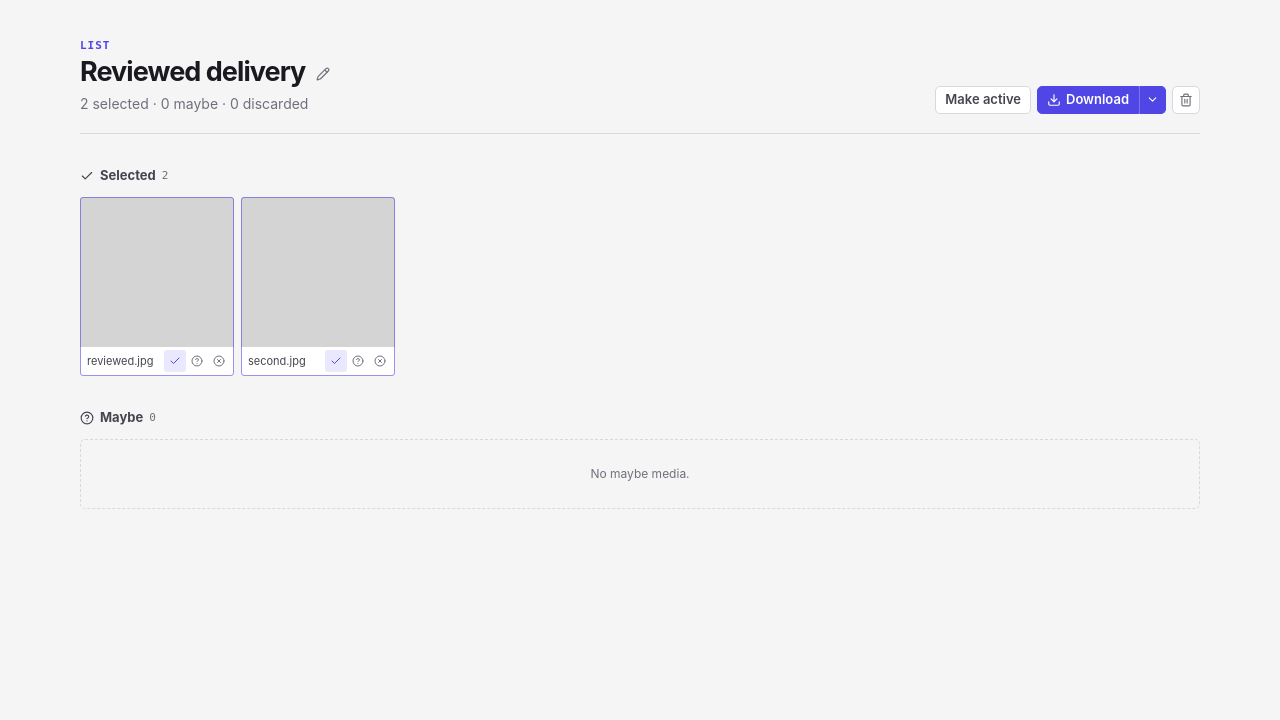
Test case: ListPage viewer › rolls back only the item whose concurrent status update failed
Click the button named "Mark maybe" next to "reviewed.jpg": (197, 362) [186, 350, 208, 372]
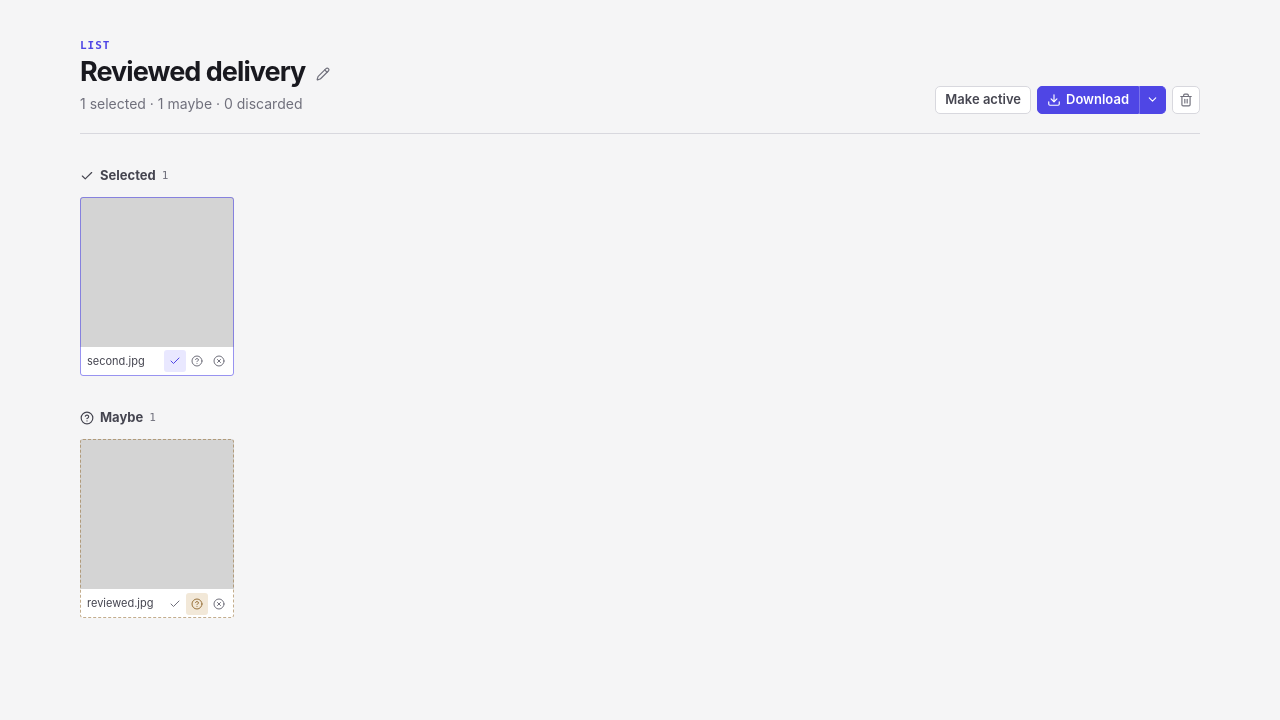
Click the button named "Mark discarded" next to "second.jpg": (219, 362) [208, 350, 230, 372]
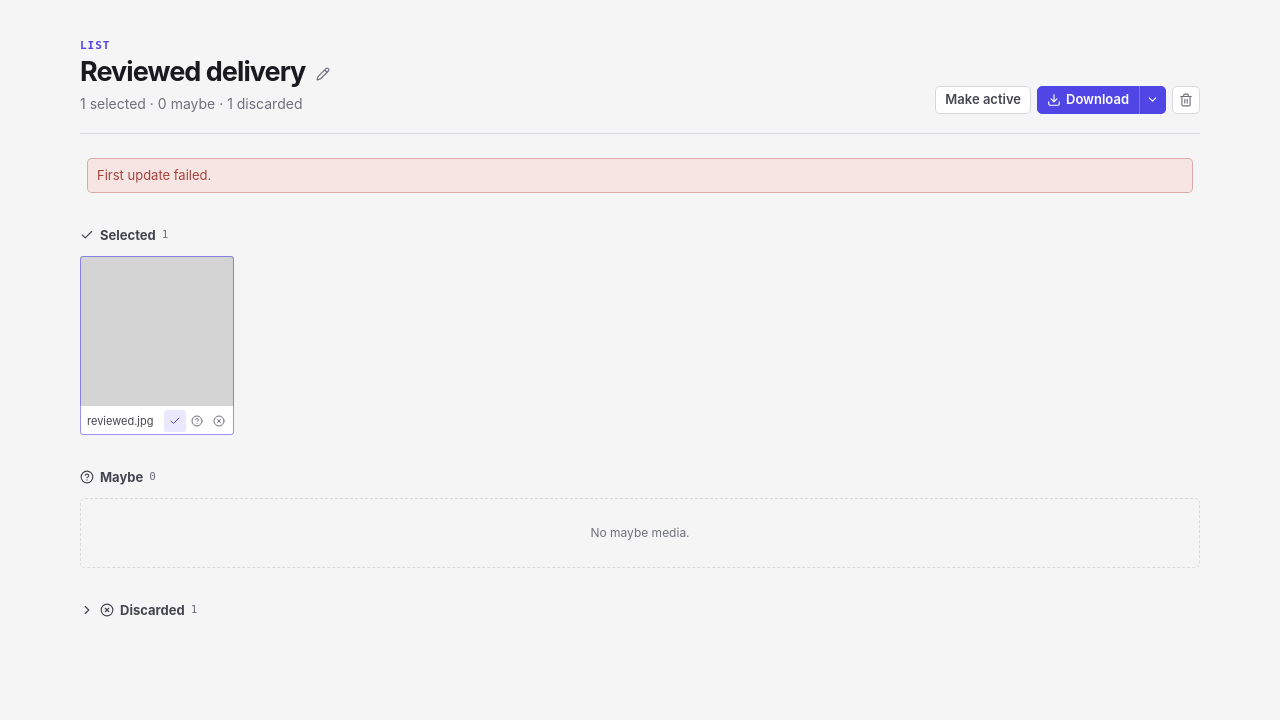
Check: the text "1 selected · 0 maybe · 1 discarded" is shown, box [80, 93, 337, 114]
